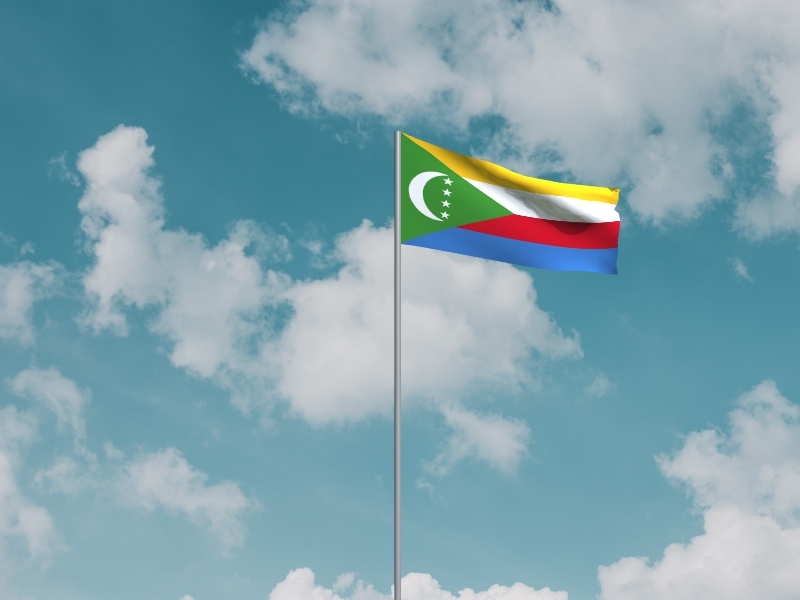km: (401, 133, 622, 277)
